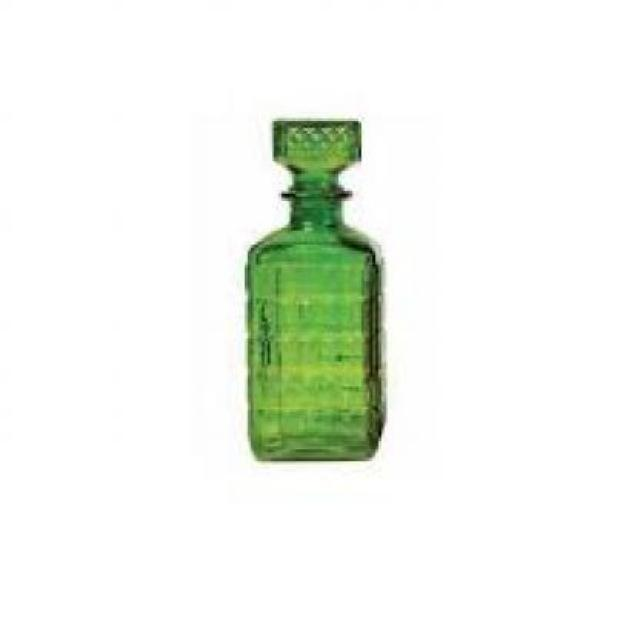kaca: (242, 117, 388, 458)
